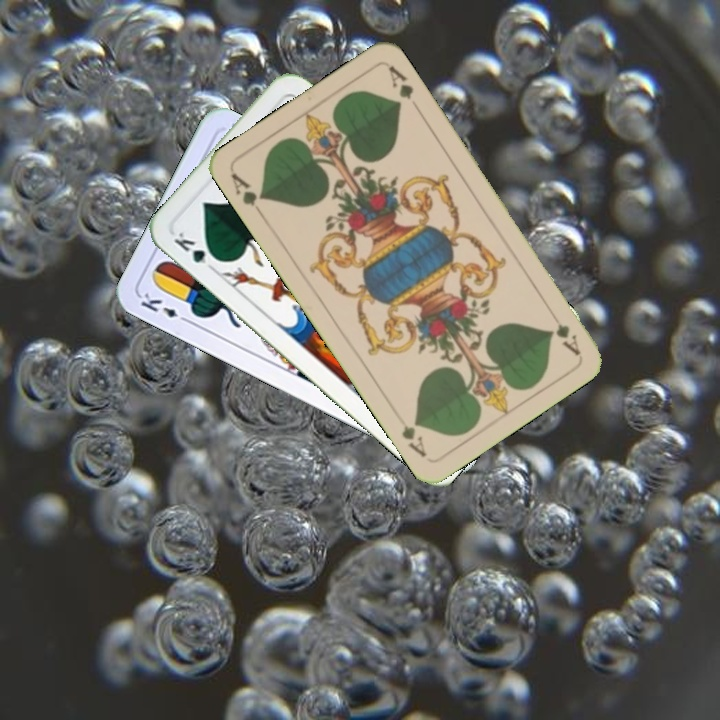EK: (136, 288, 193, 326)
GA: (227, 169, 269, 221), (544, 306, 583, 358)
GK: (169, 228, 223, 274)
